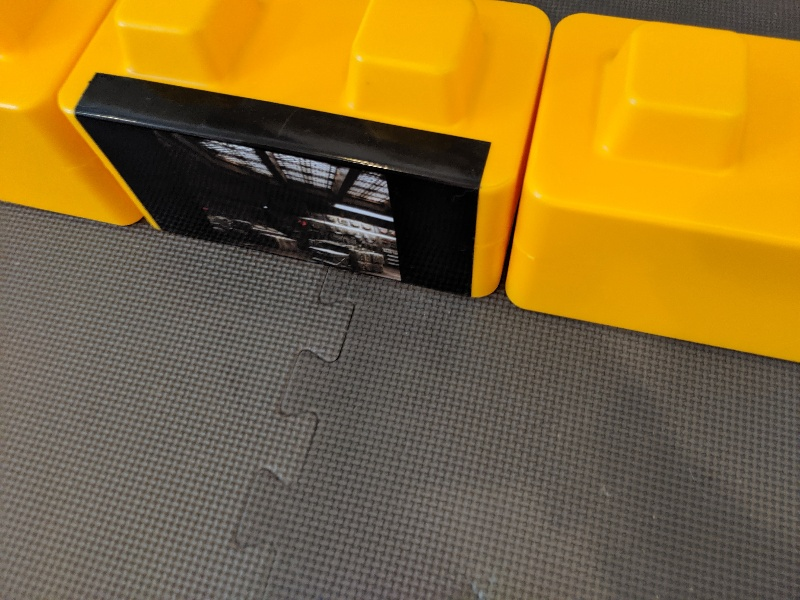Skystone: (59, 58, 492, 307)
